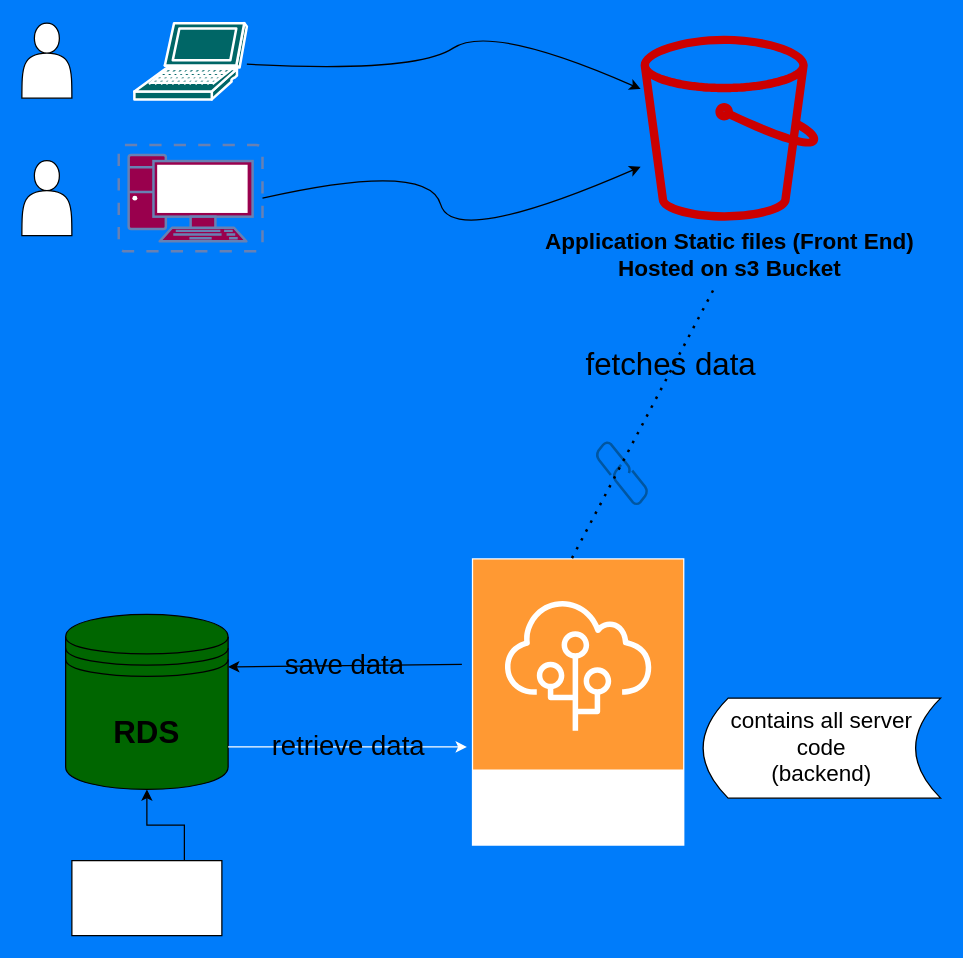
Some shapes in this 963 by 958 pixel diagram are drawn without their labels. The centre of each missing label's shape, as x and y in pixels:
"AWS Elastic Beanstalk" belongs at point (577, 701).
"Relational Database" belongs at point (146, 897).
